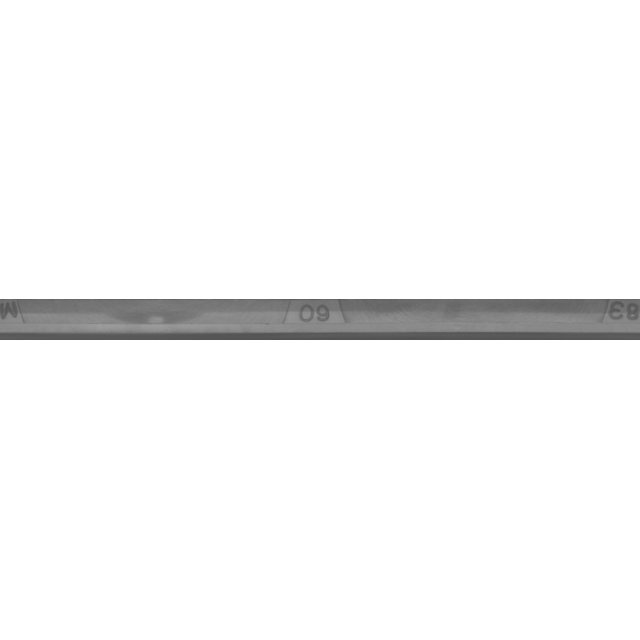mohao: (0, 270, 101, 370)
xuehao: (217, 270, 417, 370)
